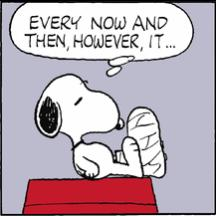snoopy: (33, 71, 169, 182)
